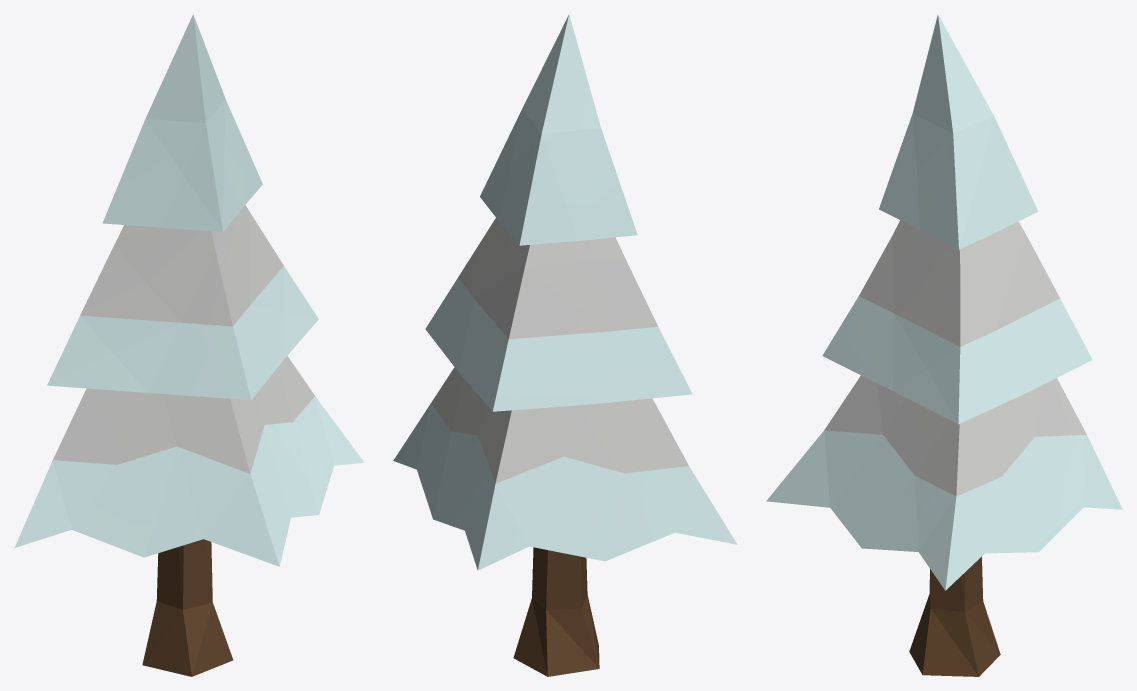
File: tree-spruce-snow.glb
3 renders of one model, left to right at view 1: azimuth 30°, elevation 25°; view 2: azimuth 150°, elevation 25°; view 3: azimuth 270°, elevation 25°, orthographic.
Parts seen in each view (by area): view 1: tree-spruce_winter; view 2: tree-spruce_winter; view 3: tree-spruce_winter.
Boxes of the visible parts, x1,y1,x2,y2 form: tree-spruce_winter: (14, 14, 364, 676); tree-spruce_winter: (393, 14, 737, 676); tree-spruce_winter: (766, 14, 1122, 676).
Size of the model in its own units: 3.14 by 5.55 by 2.78.
1 material, 1 textured.
